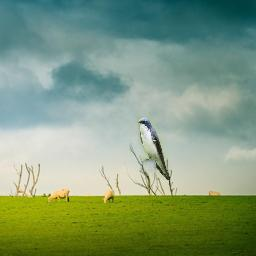Swallow: (138, 118, 171, 181)
